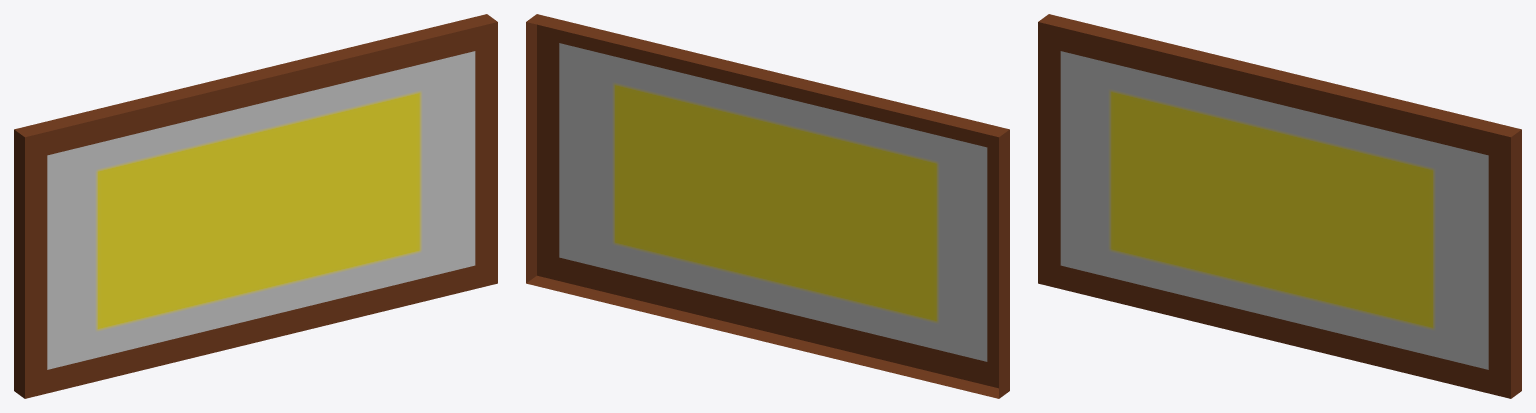
File: Paint_7.fbx
3 renders of one model, left to right at view 1: azimuth 30°, elevation 25°; view 2: azimuth 150°, elevation 25°; view 3: azimuth 330°, elevation 25°, orthographic.
Visible parts, largest first — view 1: polySurface906; view 2: polySurface906; view 3: polySurface906.
Part boxes in pixels (x1=…): polySurface906: x1=14, y1=14, x2=497, y2=398; polySurface906: x1=526, y1=14, x2=1009, y2=398; polySurface906: x1=1038, y1=14, x2=1521, y2=398.
Size of the model in its own units: 2.12 by 1.12 by 0.084.
1 material, 1 textured.
